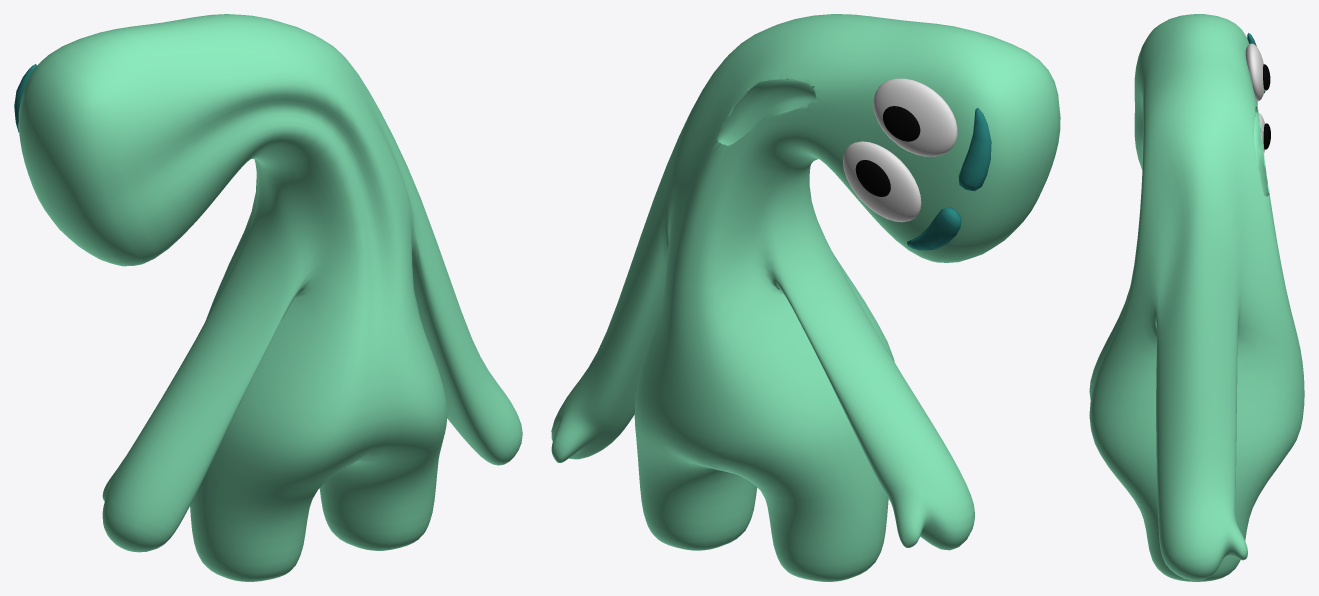
File: chubby_gummies_green.glb
3 renders of one model, left to right at view 1: azimuth 30°, elevation 25°; view 2: azimuth 150°, elevation 25°; view 3: azimuth 270°, elevation 25°, orthographic. The views are drawn at different scales.
Parts seen in each view (by area): view 1: chubbie_gummies_green; view 2: chubbie_gummies_green; view 3: chubbie_gummies_green.
Boxes of the visible parts, bbox=[...] form: chubbie_gummies_green: bbox=[14, 14, 522, 581]; chubbie_gummies_green: bbox=[551, 14, 1060, 581]; chubbie_gummies_green: bbox=[1089, 14, 1304, 581].
Size of the model in its own units: 1.39 by 1.55 by 0.6736.
